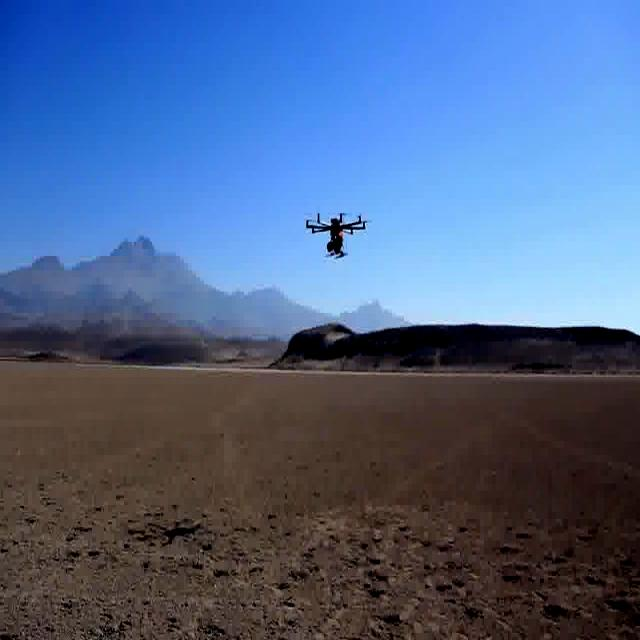drone: (300, 204, 368, 257)
